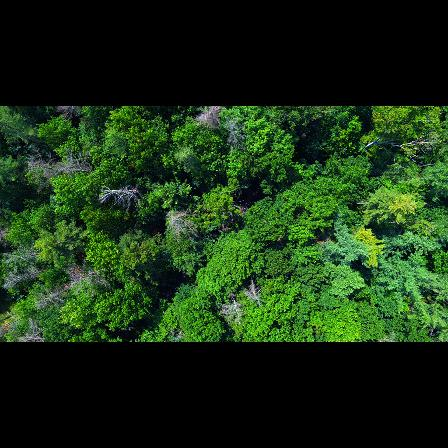Dead: (364, 131, 434, 166), (57, 259, 122, 290), (29, 152, 95, 182), (97, 182, 148, 211), (3, 266, 52, 290), (163, 208, 197, 241), (213, 291, 243, 328), (11, 320, 53, 340), (0, 248, 46, 266), (246, 279, 270, 312), (192, 107, 222, 129), (223, 124, 245, 148)
